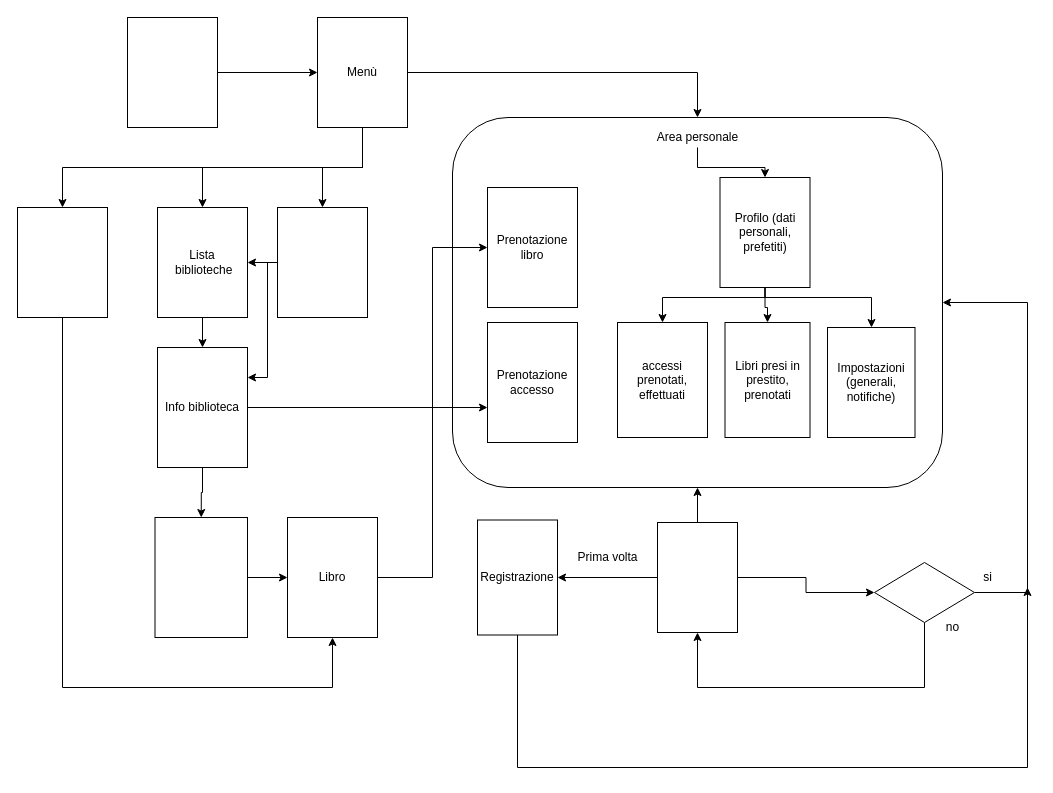
The diagram is 1053 pixels wide and 793 high, and some of its shapes have lost their labels. The centre of each missing label's shape, as x and y in pixels:
Catalogo: the point at 201,577
Cerca libro: the point at 62,262
Home page: the point at 172,72
Log in: the point at 697,577
Mappa: the point at 322,262
